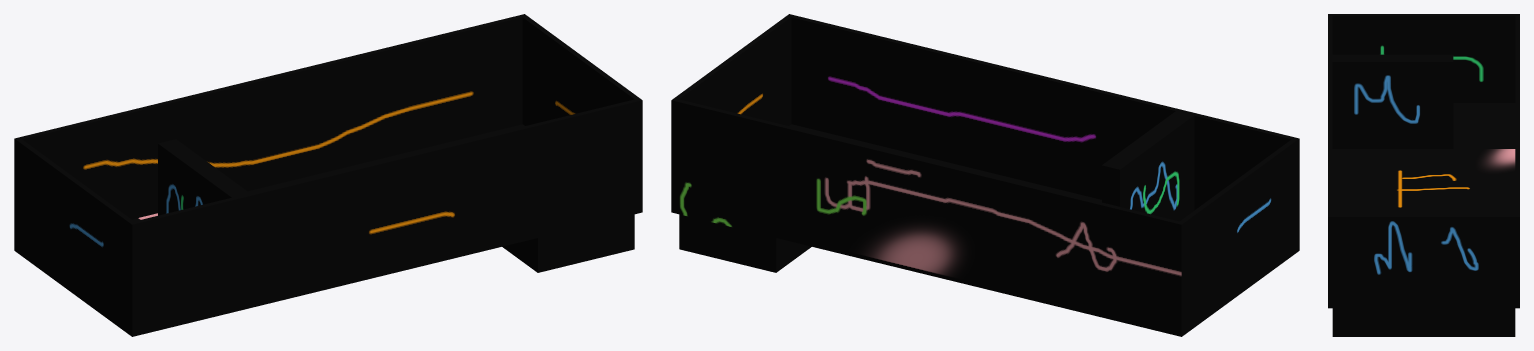
Rendered from LevelPool.gltf.
3 views of the same model, side by side, from view 1: azimuth 30°, elevation 25°; view 2: azimuth 150°, elevation 25°; view 3: azimuth 270°, elevation 25° (orthographic). The views are drawn at different scales.
Visible parts, largest first — view 1: Plane-Col; view 2: Plane-Col; view 3: Plane-Col.
Boxes of the visible parts, x1,y1,x2,y2 form: Plane-Col: [14, 14, 642, 336]; Plane-Col: [671, 14, 1299, 336]; Plane-Col: [1328, 14, 1519, 336].
Size of the model in its own units: 50 by 14.04 by 20.
1 material, 1 textured.
